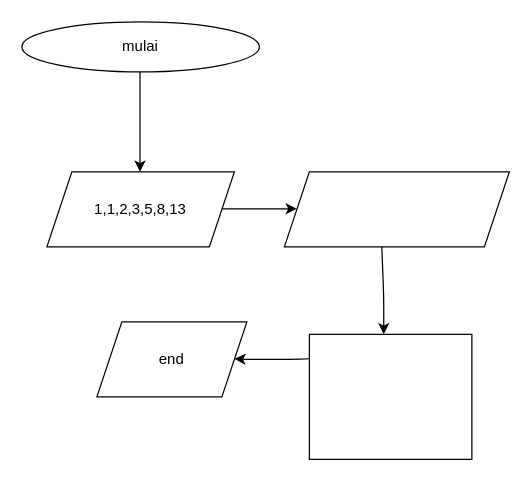
The diagram is 531 pixels wide and 481 high, and some of its shapes have lost their labels. The box of each missing label's shape, as (x1, y1, x2, y2) in pixels:
1= -17,22 °C 2= -16,67 °C 3= 16,11 °C 5= -15 °C 8= -13,33 °C 13= -10,56 °C: (308, 333, 472, 459)
fahrenheit convert celsius: (283, 171, 509, 247)
